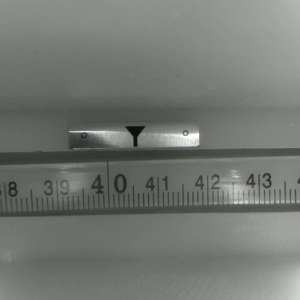0: (113, 173, 127, 193)
1: (162, 176, 168, 191)
2: (210, 175, 220, 189)
3: (6, 181, 17, 197), (43, 180, 53, 196), (261, 173, 271, 188), (58, 180, 68, 195)
4: (91, 174, 105, 194), (244, 174, 255, 188), (194, 175, 204, 190), (145, 177, 155, 192)
finger: (123, 126, 145, 147)
